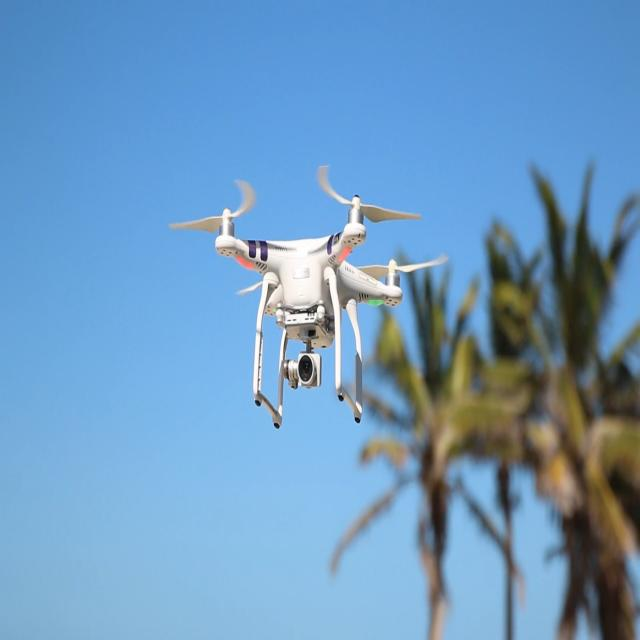Drone: (160, 162, 458, 433)
